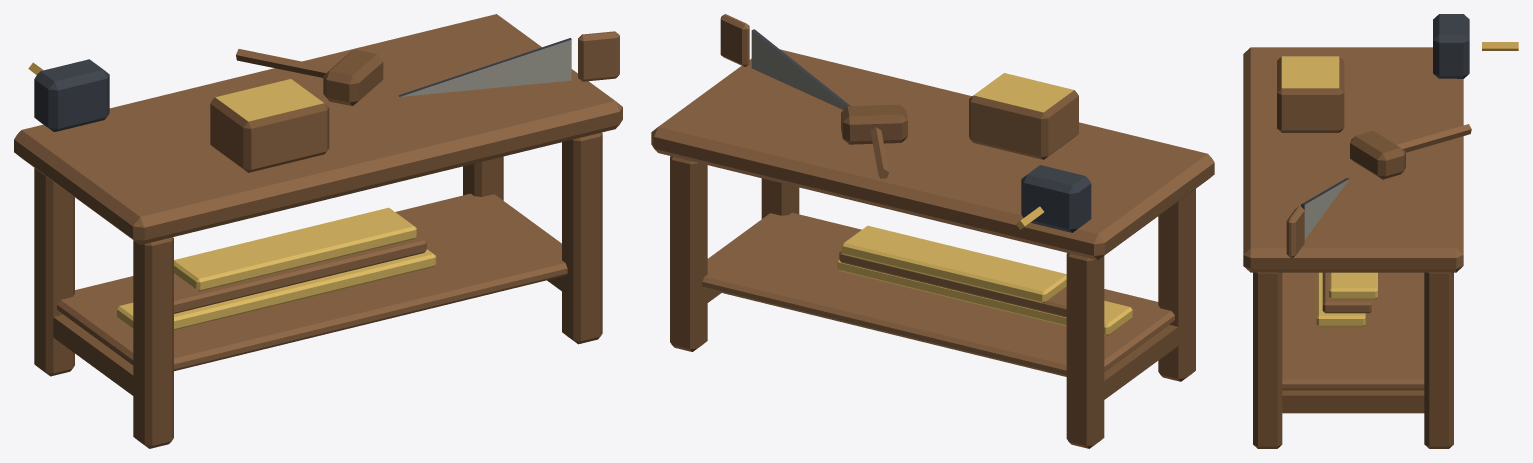
Rendered from Workbench.obj.
3 views of the same model, side by side, from view 1: azimuth 30°, elevation 25°; view 2: azimuth 150°, elevation 25°; view 3: azimuth 270°, elevation 25° (orthographic). The views are drawn at different scales.
Size of the model in its own units: 4.16 by 2.26 by 2.25.
